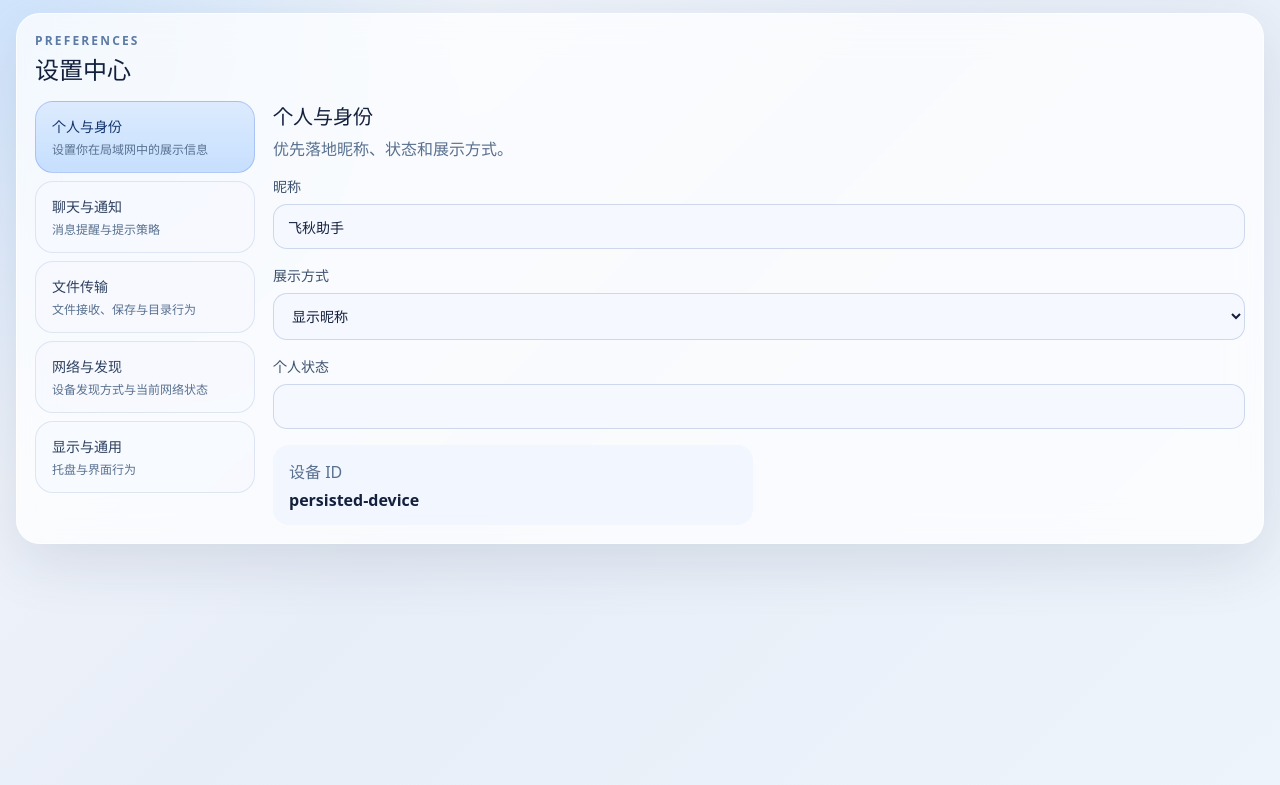
shows only the latest three history entries until expanded
Click the button "网络与发现 设备发现方式与当前网络状态": (145, 377) x1=35 y1=341 x2=255 y2=413
(page scrolled)
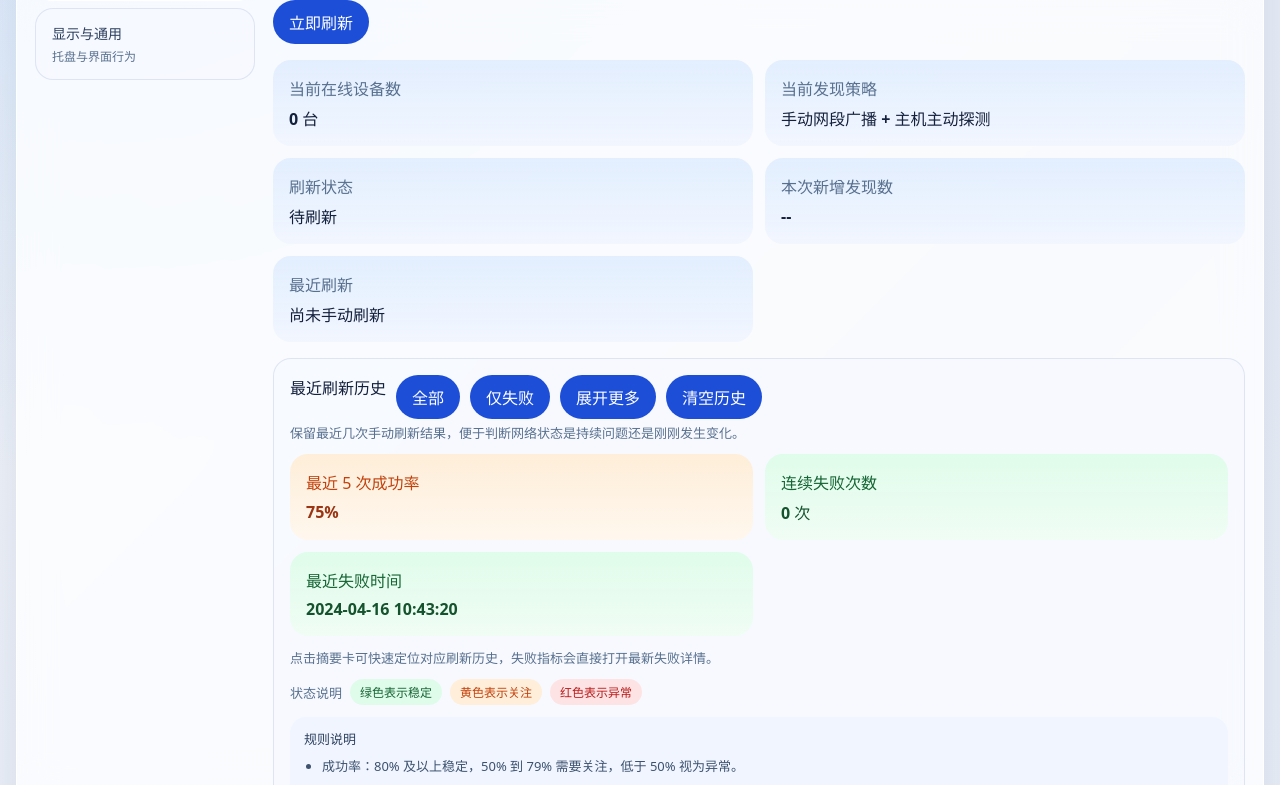
Result: the button "展开更多" is shown
Click the button "展开更多": (608, 397) x1=560 y1=375 x2=656 y2=419
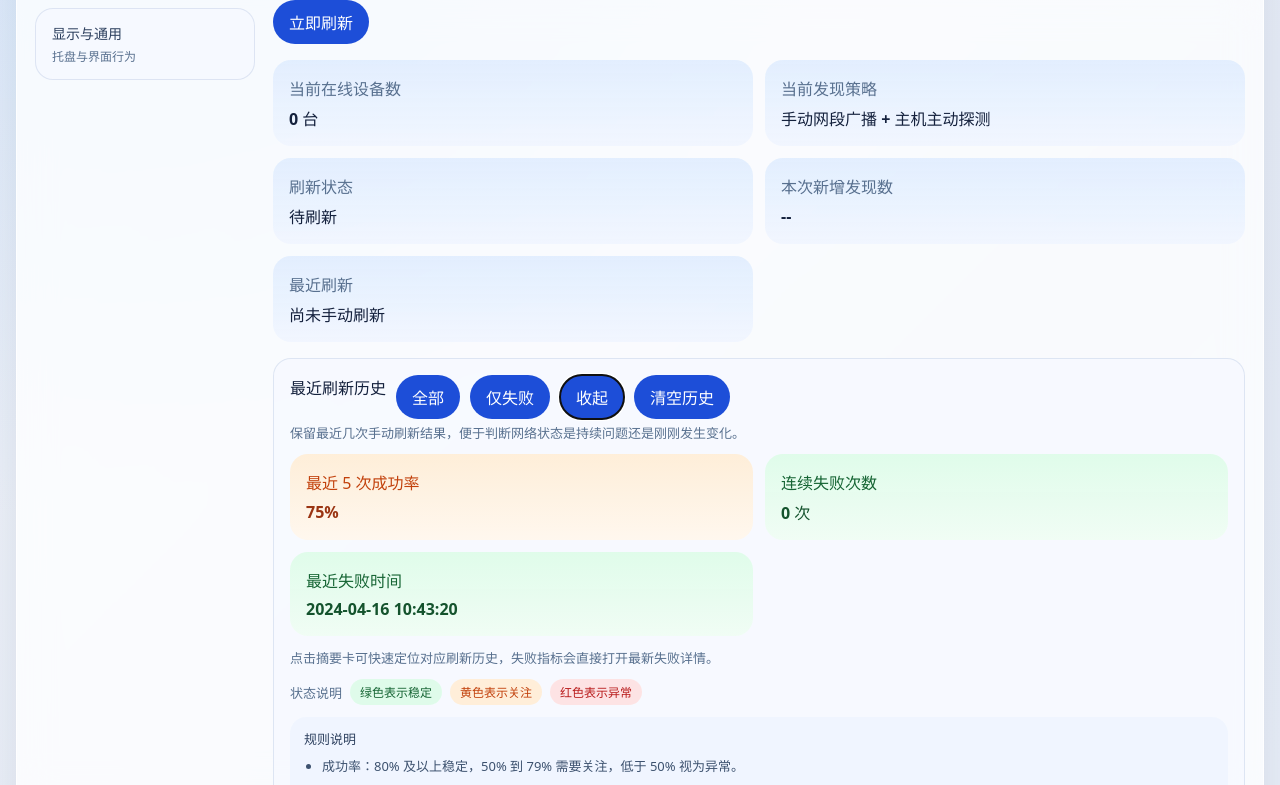
Result: the button "收起" is shown
Click the button "收起": (592, 397) x1=560 y1=375 x2=624 y2=419
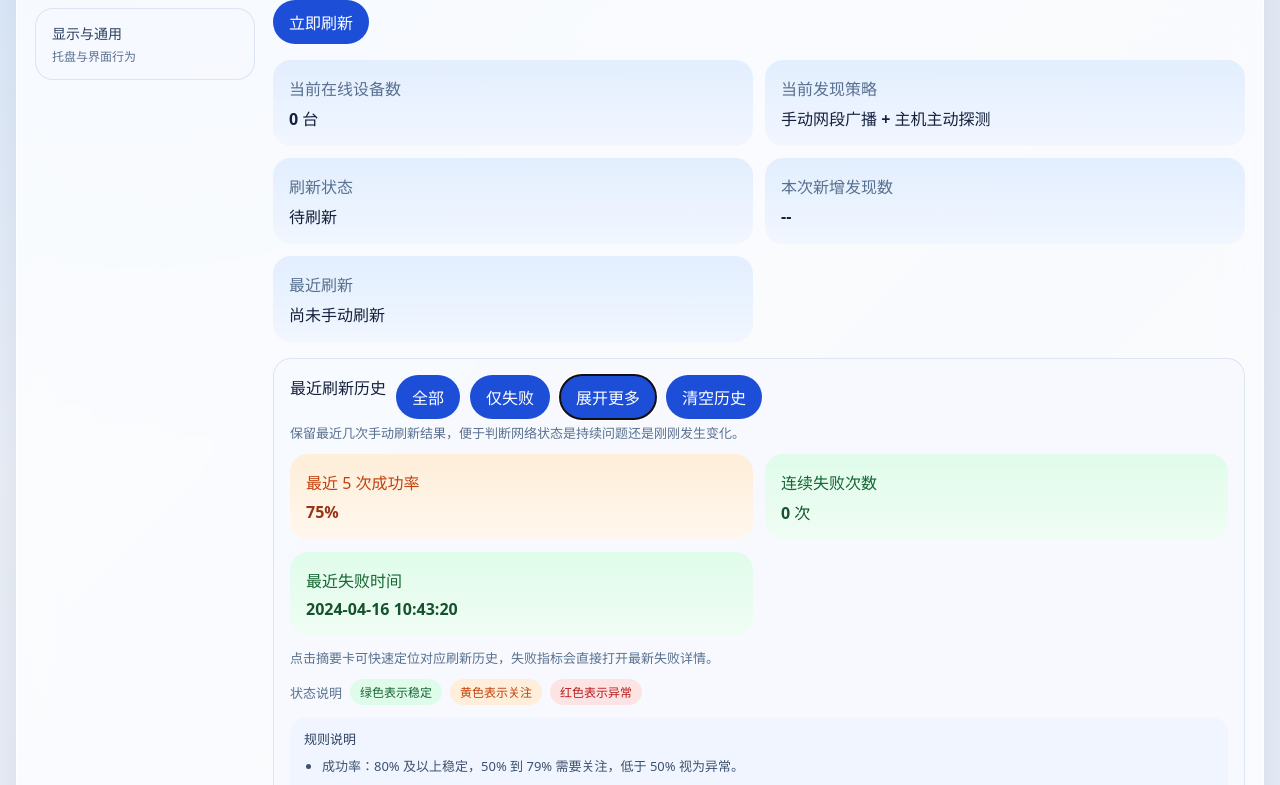
Result: the button "展开更多" is shown at x1=560 y1=375 x2=656 y2=419
